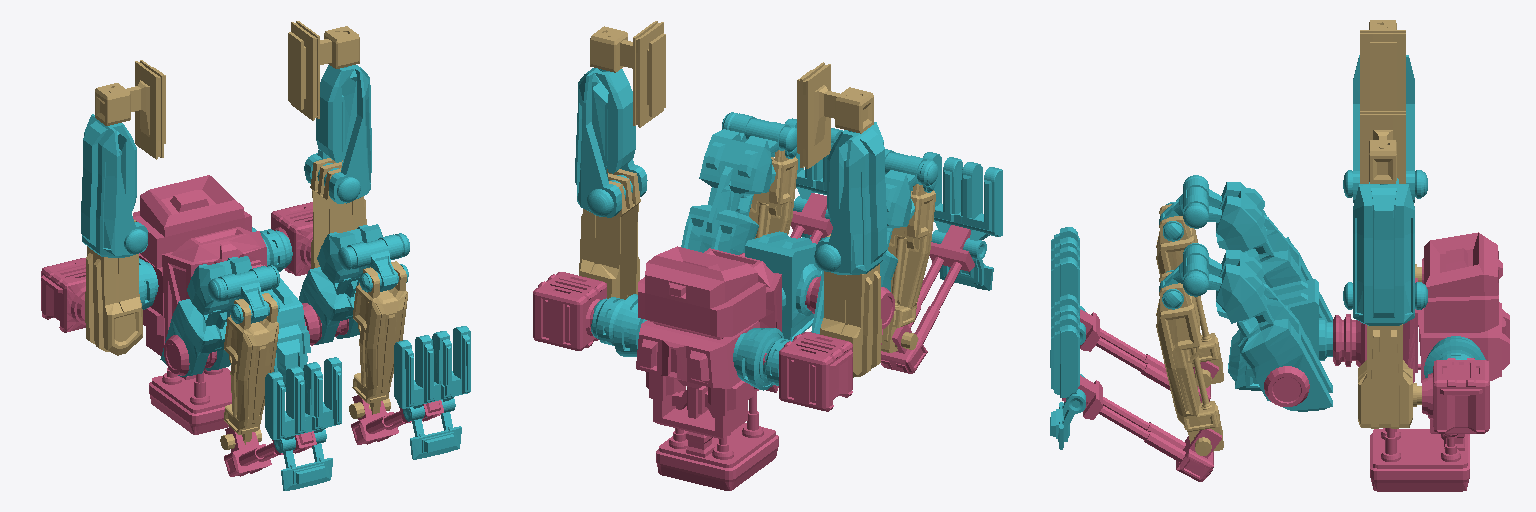
--- Render facts (derived) ---
The picture shows the robot from 3 angles, left to right: view 1: azimuth 30°, elevation 25°; view 2: azimuth 150°, elevation 25°; view 3: azimuth 270°, elevation 25°; orthographic projection.
Model legs_testMove with 23 links and 22 joints (15 revolute, 7 fixed), rooted at base_link, posed every joint at zero.
Visible links, largest first — view 1: link_body, link_arm_r_03, link_leg_r_01, link_foot_l, link_foot_r, link_leg_l_01, link_arm_l_03, link_leg_l_02, link_leg_r_02, link_arm_r_02, link_hand_l, link_hand_r (+10 smaller); view 2: link_body, link_leg_l_01, link_arm_r_03, link_arm_l_03, link_foot_r, link_arm_l_02, link_arm_r_01, link_hand_r, link_arm_r_02, link_hand_l, link_leg_r_02, link_arm_l_01 (+9 smaller); view 3: link_body, link_leg_l_01, link_arm_l_03, link_leg_r_01, link_leg_l_02, link_arm_l_02, link_arm_l_01, link_hand_r, link_foot_l, link_leg_l_03, link_hand_l, link_hip (+6 smaller).
Boxes of the visible links, <box> form: link_body: <box>133,175,266,434</box>; link_arm_r_03: <box>81,114,147,257</box>; link_leg_r_01: <box>160,256,279,376</box>; link_foot_l: <box>394,326,470,459</box>; link_foot_r: <box>265,357,341,490</box>; link_leg_l_01: <box>299,224,409,344</box>; link_arm_l_03: <box>304,65,371,203</box>; link_leg_l_02: <box>349,261,407,418</box>; link_leg_r_02: <box>220,293,278,449</box>; link_arm_r_02: <box>85,220,142,355</box>; link_hand_l: <box>288,21,359,120</box>; link_hand_r: <box>95,60,165,159</box>; link_body: <box>636,246,781,490</box>; link_leg_l_01: <box>681,112,796,254</box>; link_arm_r_03: <box>814,122,886,274</box>; link_arm_l_03: <box>575,68,647,217</box>; link_foot_r: <box>923,152,1002,290</box>; link_arm_l_02: <box>579,169,640,299</box>; link_arm_r_01: <box>763,332,852,411</box>; link_hand_r: <box>797,62,873,168</box>; link_arm_r_02: <box>820,234,881,377</box>; link_hand_l: <box>590,21,665,127</box>; link_leg_r_02: <box>881,184,935,352</box>; link_arm_l_01: <box>533,272,606,350</box>; link_body: <box>1333,232,1509,491</box>; link_leg_l_01: <box>1159,243,1332,411</box>; link_arm_l_03: <box>1343,178,1427,325</box>; link_leg_r_01: <box>1159,175,1332,321</box>; link_leg_l_02: <box>1156,272,1223,455</box>; link_arm_l_02: <box>1358,324,1421,428</box>; link_arm_l_01: <box>1422,358,1489,433</box>; link_hand_r: <box>1360,20,1405,110</box>; link_foot_l: <box>1050,294,1085,449</box>; link_leg_l_03: <box>1062,375,1221,481</box>; link_hand_l: <box>1360,111,1405,183</box>; link_hip: <box>1228,279,1332,390</box>.
Size in the robot's own frame: 1.72 by 2.25 by 2.18 metres.
22 mesh visuals loaded from 22 distinct referenced files (22 OBJ).

URDF robot description (legs_testMove):
<?xml version="1.0"?>
<!-- created with Phobos 0.8 -->
<!-- right joint and link position!!!!!!! finally!!! -->
  <robot name="legs_testMove">
      <link name="base_link">
      <inertial>
        <origin rpy="0 0 0" xyz="0 0 0"/>
        <mass value="1.0"/>
        <inertia ixx="0.01" ixy="0.01" ixz="0.01" iyy="0.01" iyz="0.01" izz="0.01"/>
      </inertial>
      <visual>
        <origin rpy="0 0 0" xyz="0 0 0"/>
        <geometry>
          <box size="0.01 0.01 0.01"/>
        </geometry>
        <material name="color_01"/>
      </visual>
    </link>  
    
    <link name="link_shoulder_l">
      <inertial>
        <origin rpy="0 0 0" xyz="0 0 0"/>
        <mass value="2.0"/>
        <inertia ixx="0" ixy="0" ixz="0" iyy="0" iyz="0" izz="0"/>
      </inertial>   
      <visual name="shoulder_l">
        <origin xyz="0.17547 0 0" rpy="1.5708 0 0"/>
        <!-- <origin xyz="0.08415 0 0" rpy="1.5708 0 0"/> -->
        <geometry>
          <mesh filename="meshes/shoulder_l.obj" scale="1.0 1.0 1.0"/>
        </geometry>
        <material name="color_01"/>
      </visual>
      <collision name="co_shoulder_l">
        <origin xyz="0.17547 0 0" rpy="1.5708 0 0"/>
        <geometry>
          <mesh filename="meshes/shoulder_l.obj" scale="1.0 1.0 1.0"/>
        </geometry>
      </collision>
    </link>
    
    <link name="link_arm_l_01">
      <inertial>
        <origin rpy="0 0 0" xyz="0 0 0"/>
        <mass value="4.0"/>
        <inertia ixx="0" ixy="0" ixz="0" iyy="0" iyz="0" izz="0"/>
      </inertial>  
      <visual name="arm_l_01">
        <origin xyz="0.175 0 0.02" rpy="0 0 0"/>
        <!-- <origin xyz="0.09523 -0.00406 -0.01136" rpy="0 0 0"/> -->
        <geometry>
          <mesh filename="meshes/arm_l_01.obj" scale="1.0 1.0 1.0"/>
        </geometry>
        <material name="color_03"/>
      </visual>
      <collision name="co_arm_l_01">
        <origin xyz="0.175 0 0.02" rpy="1.5708 0 0"/>
        <geometry>
          <mesh filename="meshes/arm_l_01.obj" scale="1.0 1.0 1.0"/>
        </geometry>
      </collision>
    </link>

    <link name="link_arm_l_02">
      <inertial>
        <origin rpy="0 0 0" xyz="0 0 0"/>
        <mass value="5.0"/>
        <inertia ixx="0" ixy="0" ixz="0" iyy="0" iyz="0" izz="0"/>
      </inertial>  
      <visual name="arm_l_02">
        <origin xyz="-0.05 -0.10815 0.21758" rpy="0 0 0"/>
        <!-- <origin xyz="-0.00153 -0.09056 -0.05436" rpy="0 0 0"/> -->
        <geometry>
          <mesh filename="meshes/arm_l_02.obj" scale="1.0 1.0 1.0"/>
        </geometry>
        <material name="color_04"/>
      </visual>
      <collision name="co_arm_l_02">
        <origin xyz="-0.05 -0.10815 0.21758" rpy="1.5708 0 0"/>
        <geometry>
          <mesh filename="meshes/arm_l_02.obj" scale="1.0 1.0 1.0"/>
        </geometry>
      </collision>
    </link>

    <link name="link_arm_l_03">
      <inertial>
        <origin rpy="0 0 0" xyz="0 0 0"/>
        <mass value="5.0"/>
        <inertia ixx="0" ixy="0" ixz="0" iyy="0" iyz="0" izz="0"/>
      </inertial> 
      <visual name="arm_l_03">
        <origin xyz="-0.02 0.01137 0.235" rpy="0 0 0"/>
        <!-- <origin xyz="0.01526 -0.09395 0.00264" rpy="1.5708 0 0"/> -->
        <geometry>
          <mesh filename="meshes/arm_l_03.obj" scale="1.0 1.0 1.0"/>
        </geometry>
        <material name="color_01"/>
      </visual>
      <collision name="co_arm_l_03">
        <origin xyz="-0.02 0.01137 0.235" rpy="1.5708 0 0"/>
        <geometry>
          <mesh filename="meshes/arm_l_03.obj" scale="1.0 1.0 1.0"/>
        </geometry>
      </collision>
    </link>

    <link name="link_hand_l">
      <inertial>
        <origin rpy="0 0 0" xyz="0 0 0"/>
        <mass value="1.0"/>
        <inertia ixx="0" ixy="0" ixz="0" iyy="0" iyz="0" izz="0"/>
      </inertial> 
      <visual name="hand_l">
        <origin xyz="-0.10738 0 0.075" rpy="0 0 0"/>
        <!-- <origin xyz="-0.06739 0.03449 0" rpy="1.5708 0 0"/> -->
        <geometry>
          <mesh filename="meshes/hand_l.obj" scale="1.0 1.0 1.0"/>
        </geometry>
        <material name="color_04"/>
      </visual>
      <collision name="co_hand_l">
        <origin xyz="-0.10738 0 0.075" rpy="1.5708 0 0"/>
        <geometry>
          <mesh filename="meshes/hand_l.obj" scale="1.0 1.0 1.0"/>
        </geometry>
      </collision>
    </link>

    <link name="link_shoulder_r">
      <inertial>
        <origin rpy="0 0 0" xyz="0 0 0"/>
        <mass value="2.0"/>
        <inertia ixx="0" ixy="0" ixz="0" iyy="0" iyz="0" izz="0"/>
      </inertial> 
      <visual name="shoulder_r">
        <origin xyz="-0.22 0 0" rpy="1.5708 0 0"/>
        <!-- <origin xyz="-0.08415 0 0" rpy="1.5708 0 0"/> -->
        <geometry>
          <mesh filename="meshes/shoulder_r.obj" scale="1.0 1.0 1.0"/>
        </geometry>
        <material name="color_01"/>
      </visual>
      <collision name="co_shoulder_r">
        <origin xyz="-0.22 0 0" rpy="1.5708 0 0"/>
        <geometry>
          <mesh filename="meshes/shoulder_r.obj" scale="1.0 1.0 1.0"/>
        </geometry>
      </collision>
    </link>

    <link name="link_arm_r_01">
      <inertial>
        <origin rpy="0 0 0" xyz="0 0 0"/>
        <mass value="4.0"/>
        <inertia ixx="0" ixy="0" ixz="0" iyy="0" iyz="0" izz="0"/>
      </inertial> 
      <visual name="arm_r_01">
        <origin xyz="-0.175 0 0.02" rpy="0 0 0"/>
        <!-- <origin xyz="-0.09523 -0.00406 -0.01136" rpy="1.5708 0 0"/> -->
        <geometry>
          <mesh filename="meshes/arm_r_01.obj" scale="1.0 1.0 1.0"/>
        </geometry>
        <material name="color_03"/>
      </visual>
      <collision name="co_arm_r_01">
        <origin xyz="-0.175 0 0.02" rpy="1.5708 0 0"/>
        <geometry>
          <mesh filename="meshes/arm_r_01.obj" scale="1.0 1.0 1.0"/>
        </geometry>
      </collision>
    </link>

    <link name="link_arm_r_02">
      <inertial>
        <origin rpy="0 0 0" xyz="0 0 0"/>
        <mass value="5.0"/>
        <inertia ixx="0" ixy="0" ixz="0" iyy="0" iyz="0" izz="0"/>
      </inertial> 
      <visual name="arm_r_02">
        <origin xyz="0.05 -0.10815 0.22" rpy="0 0 0"/>
        <!-- <origin xyz="-0.00213 -0.09054 -0.05436" rpy="1.5708 0 0"/> -->
        <geometry>
          <mesh filename="meshes/arm_r_02.obj" scale="1.0 1.0 1.0"/>
        </geometry>
        <material name="color_04"/>
      </visual>
      <collision name="co_arm_r_02">
        <origin xyz="-0.00679 -0.09681 -0.04815" rpy="1.5708 0 0"/>
        <geometry>
          <mesh filename="meshes/arm_r_02.obj" scale="1.0 1.0 1.0"/>
        </geometry>
      </collision>
    </link>

    <link name="link_arm_r_03">
      <inertial>
        <origin rpy="0 0 0" xyz="0 0 0"/>
        <mass value="5.0"/>
        <inertia ixx="0" ixy="0" ixz="0" iyy="0" iyz="0" izz="0"/>
      </inertial> 
      <visual name="arm_r_03">
        <origin xyz="0.02 0.01137 0.235" rpy="0 0 0"/>
        <!-- <origin xyz="-0.01526 -0.09395 0.00264" rpy="0 0 0"/> -->
        <geometry>
          <mesh filename="meshes/arm_r_03.obj" scale="1.0 1.0 1.0"/>
        </geometry>
        <material name="color_01"/>
      </visual>
      <collision name="co_arm_r_03">
        <origin xyz="0.02 0.01137 0.235" rpy="1.5708 0 0"/>
        <geometry>
          <mesh filename="meshes/arm_r_03.obj" scale="1.0 1.0 1.0"/>
        </geometry>
      </collision>
    </link>

    <link name="link_hand_r">
      <inertial>
        <origin rpy="0 0 0" xyz="0 0 0"/>
        <mass value="1.0"/>
        <inertia ixx="0" ixy="0" ixz="0" iyy="0" iyz="0" izz="0"/>
      </inertial> 
      <visual name="hand_r">
        <origin xyz="0.10738 0 0.07" rpy="0 0 0"/>
        <geometry>
          <mesh filename="meshes/hand_r.obj" scale="1.0 1.0 1.0"/>
        </geometry>
        <material name="color_04"/>
      </visual>
      <collision name="co_hand_r">
        <origin xyz="0.10738 0 0.07" rpy="1.5708 0 0"/>
        <geometry>
          <mesh filename="meshes/hand_r.obj" scale="1.0 1.0 1.0"/>
        </geometry>
      </collision>
    </link>

    <!-- ###### -->
    <link name="link_body">
      <inertial>
        <origin rpy="0 0 0" xyz="0 0 0"/>
        <mass value="10.0"/>
        <inertia ixx="0" ixy="0" ixz="0" iyy="0" iyz="0" izz="0"/>
      </inertial>   
      <visual name="body">
        <origin xyz="-0.02 0.11261 -0.3" rpy="0 0 0"/>
        <!-- <origin xyz="0.00114 0.1233 0.15401" rpy="0 0 0"/> -->
        <geometry>
          <mesh filename="meshes/body.obj" scale="1.0 1.0 1.0"/>
        </geometry>
        <material name="color_03"/>
      </visual>
      <collision name="co_body">
        <origin xyz="-0.02 0.11261 -0.3" rpy="0 0 0"/>
        <geometry>
          <mesh filename="meshes/body.obj" scale="1.0 1.0 1.0"/>
        </geometry>
      </collision>
    </link>

    <link name="link_hip">
      <inertial>
        <origin rpy="0 0 0" xyz="0 0 0"/>
        <mass value="5.0"/>
        <inertia ixx="0" ixy="0" ixz="0" iyy="0" iyz="0" izz="0"/>
      </inertial>   
      <visual name="hip">
        <origin xyz="0 0 0" rpy="0 0 0"/>
        <geometry>
          <mesh filename="meshes/hip.obj" scale="1.0 1.0 1.0"/>
        </geometry>
        <material name="color_01"/>
      </visual>
      <collision name="hip.001">
        <origin xyz="0 0 0" rpy="0 0 0"/>
        <geometry>
          <mesh filename="meshes/hip.obj" scale="1.0 1.0 1.0"/>
        </geometry>
      </collision>
    </link>

    <link name="link_hip_l">
      <inertial>
        <origin rpy="0 0 0" xyz="0 0 0"/>
        <mass value="0.5"/>
        <inertia ixx="0" ixy="0" ixz="0" iyy="0" iyz="0" izz="0"/>
      </inertial>   
      <visual name="hip_l">
        <origin xyz="0.24 -0.00043 -0.00096" rpy="0 0 0"/>
        <geometry>
          <mesh filename="meshes/hip_l.obj" scale="1.0 1.0 1.0"/>
        </geometry>
        <material name="color_03"/>
      </visual>
      <collision name="hip_l.001">
        <origin xyz="0.24 -0.00043 -0.00096" rpy="0 0 0"/>
        <geometry>
          <mesh filename="meshes/hip_l.obj" scale="1.0 1.0 1.0"/>
        </geometry>
      </collision>
    </link>

    <link name="link_leg_l_01">
      <inertial>
        <origin rpy="0 0 0" xyz="0 0 0"/>
        <mass value="2.0"/>
        <inertia ixx="0" ixy="0" ixz="0" iyy="0" iyz="0" izz="0"/>
      </inertial>   
      <visual name="leg_l_01">
        <origin xyz="0.17 -0.3849 0.45716" rpy="0 0 0"/>
        <geometry>
          <mesh filename="meshes/leg_l_01.obj" scale="1.0 1.0 1.0"/>
        </geometry>
        <material name="color_01"/>
      </visual>
      <collision name="leg_l_01.001">
        <origin xyz="0.17 -0.3849 0.45716" rpy="0 0 0"/>
        <geometry>
          <mesh filename="meshes/leg_l_01.obj" scale="1.0 1.0 1.0"/>
        </geometry>
      </collision>
    </link>

    <link name="link_leg_l_02">
      <inertial>
        <origin rpy="0 0 0" xyz="0 0 0"/>
        <mass value="2.0"/>
        <inertia ixx="0" ixy="0" ixz="0" iyy="0" iyz="0" izz="0"/>
      </inertial>   
      <visual name="leg_l_02">
        <origin xyz="0.17 0.09 -0.44" rpy="0 0 0"/>
        <geometry>
          <mesh filename="meshes/leg_l_02.obj" scale="1.0 1.0 1.0"/>
        </geometry>
        <material name="color_04"/>
      </visual>
      <collision name="leg_l_02.001">
        <origin xyz="0.17 0.09 -0.44" rpy="0 0 0"/>
        <geometry>
          <mesh filename="meshes/leg_l_02.obj" scale="1.0 1.0 1.0"/>
        </geometry>
      </collision>
    </link>

    <link name="link_leg_l_03">
      <inertial>
        <origin rpy="0 0 0" xyz="0 0 0"/>
        <mass value="2.0"/>
        <inertia ixx="0" ixy="0" ixz="0" iyy="0" iyz="0" izz="0"/>
      </inertial> 
      <visual name="leg_l_03">
        <origin xyz="0.17 -0.18418 0.03651" rpy="0 0 0"/>
        <geometry>
          <mesh filename="meshes/leg_l_03.obj" scale="1.0 1.0 1.0"/>
        </geometry>
        <material name="color_03"/>
      </visual>
      <collision name="leg_l_03.001">
        <origin xyz="0.17 -0.18418 0.03651" rpy="0 0 0"/>
        <geometry>
          <mesh filename="meshes/leg_l_03.obj" scale="1.0 1.0 1.0"/>
        </geometry>
      </collision>
    </link>

    <link name="link_foot_l">
      <inertial>
        <origin rpy="0 0 0" xyz="0 0 0"/>
        <mass value="4.0"/>
        <inertia ixx="0" ixy="0" ixz="0" iyy="0" iyz="0" izz="0"/>
      </inertial> 
      <visual name="foot_l">
        <origin xyz="0.17 -0.0175 0.132" rpy="0 0 0"/>
        <!-- <origin xyz="0.17 -0.00873 0.0849" rpy="0 0 0"/> -->
        <geometry>
          <mesh filename="meshes/foot_l.obj" scale="1.0 1.0 1.0"/>
        </geometry>
        <material name="color_01"/>
      </visual>
      <collision name="foot_l.001">
        <origin xyz="0.17 -0.0175 0.132" rpy="0 0 0"/>
        <geometry>
          <mesh filename="meshes/foot_l.obj" scale="1.0 1.0 1.0"/>
        </geometry>
      </collision>
    </link>

    <link name="link_hip_r">
      <inertial>
        <origin rpy="0 0 0" xyz="0 0 0"/>
        <mass value="0.5"/>
        <inertia ixx="0" ixy="0" ixz="0" iyy="0" iyz="0" izz="0"/>
      </inertial>       
      <visual name="hip_r">
        <origin xyz="-0.24 -0.00043 -0.00096" rpy="0 0 0"/>
        <geometry>
          <mesh filename="meshes/hip_r.obj" scale="1.0 1.0 1.0"/>
        </geometry>
        <material name="color_03"/>
      </visual>
      <collision name="hip_r.001">
        <origin xyz="-0.24 -0.00043 -0.00096" rpy="0 0 0"/>
        <geometry>
          <mesh filename="meshes/hip_r.obj" scale="1.0 1.0 1.0"/>
        </geometry>
      </collision>
    </link>

    <link name="link_leg_r_01">
      <inertial>
        <origin rpy="0 0 0" xyz="0 0 0"/>
        <mass value="2.0"/>
        <inertia ixx="0" ixy="0" ixz="0" iyy="0" iyz="0" izz="0"/>
      </inertial>   
      <visual name="leg_r_01">
        <origin xyz="-0.17 -0.384 0.45716" rpy="0 0 0"/>
        <geometry>
          <mesh filename="meshes/leg_r_01.obj" scale="1.0 1.0 1.0"/>
        </geometry>
        <material name="color_01"/>
      </visual>
      <collision name="leg_r_01.001">
        <origin xyz="-0.17 -0.384 0.45716" rpy="0 0 0"/>
        <geometry>
          <mesh filename="meshes/leg_r_01.obj" scale="1.0 1.0 1.0"/>
        </geometry>
      </collision>
    </link>

    <link name="link_leg_r_02">
      <inertial>
        <origin rpy="0 0 0" xyz="0 0 0"/>
        <mass value="2.0"/>
        <inertia ixx="0" ixy="0" ixz="0" iyy="0" iyz="0" izz="0"/>
      </inertial>   
      <visual name="leg_r_02">
        <origin xyz="-0.17 0.09 -0.44" rpy="0 0 0"/>
        <geometry>
          <mesh filename="meshes/leg_r_02.obj" scale="1.0 1.0 1.0"/>
        </geometry>
        <material name="color_04"/>
      </visual>
      <collision name="leg_r_02.001">
        <origin xyz="-0.17 0.09 -0.44" rpy="0 0 0"/>
        <geometry>
          <mesh filename="meshes/leg_r_02.obj" scale="1.0 1.0 1.0"/>
        </geometry>
      </collision>
    </link>

    <link name="link_leg_r_03">
      <inertial>
        <origin rpy="0 0 0" xyz="0 0 0"/>
        <mass value="3.0"/>
        <inertia ixx="0" ixy="0" ixz="0" iyy="0" iyz="0" izz="0"/>
      </inertial> 
      <visual name="leg_r_03">
        <origin xyz="-0.17 -0.19965 0.03957" rpy="0 0 0"/>
        <geometry>
          <mesh filename="meshes/leg_r_03.obj" scale="1.0 1.0 1.0"/>
        </geometry>
        <material name="color_03"/>
      </visual>
      <collision name="leg_r_03.001">
        <origin xyz="-0.17 -0.19965 0.03957" rpy="0 0 0"/>
        <geometry>
          <mesh filename="meshes/leg_r_03.obj" scale="1.0 1.0 1.0"/>
        </geometry>
      </collision>
    </link>

    <link name="link_foot_r">
      <inertial>
        <origin rpy="0 0 0" xyz="0 0 0"/>
        <mass value="4.0"/>
        <inertia ixx="0" ixy="0" ixz="0" iyy="0" iyz="0" izz="0"/>
      </inertial>    
      <visual name="foot_r">
        <origin xyz="-0.17 -0.0175 0.132" rpy="0 0 0"/>
        <!-- <origin xyz="-0.17 -0.00873 0.0849" rpy="0 0 0"/> -->
        <geometry>
          <mesh filename="meshes/foot_r.obj" scale="1.0 1.0 1.0"/>
        </geometry>
        <material name="color_01"/>
      </visual>
      <collision name="foot_r.001">
        <origin xyz="-0.17 -0.0175 0.132" rpy="0 0 0"/>
        <geometry>
          <mesh filename="meshes/foot_r.obj" scale="1.0 1.0 1.0"/>
        </geometry>
      </collision>
    </link>


<!-- joints -->
    <joint name="joint_baseLink_to_hip" type="fixed">
      <parent link="base_link"/>
      <child link="link_hip"/>
      <origin rpy="0 0 0" xyz="0 0 0."/>
      <axis xyz="0 0 1"/>
      <limit effort="300" velocity="10"/>
      <dynamics damping="0.5"/>
    </joint>  

    <joint name="joint_shoulder_l" type="revolute">
      <origin xyz="0.21646 0.3 0.00501" rpy="0 0 0"/>
      <!-- <origin xyz="0.09637 -0.00223 0.23495" rpy="0 0 0"/> -->
      <parent link="link_body"/>
      <child link="link_shoulder_l"/>
      <limit effort="300.0" velocity="20.0"/>
      <axis xyz="1 0 0"/>
      <dynamics damping="0.5"/> 
    </joint>

    <joint name="joint_arm_l_01" type="fixed">
      <origin xyz="0.30361 0 0" rpy="0 0 0"/>
      <parent link="link_shoulder_l"/>
      <child link="link_arm_l_01"/>
      <limit effort="300.0" velocity="20.0"/>
      <axis xyz="1 0 0"/>
      <dynamics damping="0.5"/> 
    </joint>

    <joint name="joint_arm_l_02" type="revolute">
      <origin xyz="0.21749 -0.18937 0" rpy="0 0 0"/>
      <!-- <origin xyz="0.09682 0 -0.1" rpy="0 0 0"/> -->
      <parent link="link_arm_l_01"/>
      <child link="link_arm_l_02"/>
      <limit effort="300.0" velocity="20.0"/>
      <axis xyz="0 1 0"/>
      <dynamics damping="0.5"/> 
    </joint>

    <joint name="joint_arm_l_03" type="revolute">
      <origin xyz="-0.0362  -0.17209 0.5047" rpy="0 0 0"/>
      <!-- <origin xyz="-0.01611 -0.22468 -0.07661" rpy="0 0 0"/> -->
      <parent link="link_arm_l_02"/>
      <child link="link_arm_l_03"/>
      <limit effort="300.0" velocity="20.0"/>
      <axis xyz="0 1 0"/>
      <dynamics damping="0.5"/> 
    </joint>

    <joint name="joint_hand_l" type="revolute">
      <origin xyz="0.06052 0.00296 0.72259" rpy="0 0 0"/>
      <!-- <origin xyz="0.02694 -0.32169 0.00132" rpy="0 0 0"/> -->
      <parent link="link_arm_l_03"/>
      <child link="link_hand_l"/>
      <limit effort="300.0" velocity="20.0"/>
      <axis xyz="0 0 1"/>
      <dynamics damping="0.5"/> 
    </joint>

    <joint name="joint_shoulder_r" type="revolute">
      <origin xyz="-0.21646 0.3 0.00501" rpy="0 0 0"/>
      <!-- <origin xyz="-0.09637 -0.00223 0.23495" rpy="0 0 0"/> -->
      <parent link="link_body"/>
      <child link="link_shoulder_r"/>
      <limit effort="300.0" velocity="20.0"/>
      <axis xyz="1 0 0"/>
      <dynamics damping="0.5"/> 
    </joint>

    <joint name="joint_arm_r_01" type="fixed">
      <origin xyz="-0.30361 0 0" rpy="0 0 0"/>
      <!-- <origin xyz="-0.13516 0 0" rpy="0 0 0"/> -->
      <parent link="link_shoulder_r"/>
      <child link="link_arm_r_01"/>
      <limit effort="300.0" velocity="20.0"/>
      <axis xyz="1 0 0"/>
      <dynamics damping="0.5"/> 
    </joint>

    <joint name="joint_arm_r_02" type="revolute">
      <origin xyz="-0.21749 -0.18937 0" rpy="0 0 0"/>
      <!-- <origin xyz="-0.09316 -1e-05 -0.0843" rpy="0 0 0"/> -->
      <parent link="link_arm_r_01"/>
      <child link="link_arm_r_02"/>
      <limit effort="300.0" velocity="20.0"/>
      <axis xyz="0 1 0"/>
      <dynamics damping="0.5"/> 
      <axis xyz="0 1 0"/>
      <dynamics damping="0.5"/> 
    </joint>

    <joint name="joint_arm_r_03" type="revolute">
      <origin xyz="0.0362  -0.17209 0.5047" rpy="0 0 0"/>
      <!-- <origin xyz="0.01245 -0.22467 -0.07661" rpy="0 0 0"/> -->
      <parent link="link_arm_r_02"/>
      <child link="link_arm_r_03"/>
      <limit effort="300.0" velocity="20.0"/>
      <axis xyz="0 1 0"/>
      <dynamics damping="0.5"/> 
    </joint>

    <joint name="joint_hand_r" type="revolute">
      <origin xyz="-0.06052 0.00296 0.72259" rpy="0 0 0"/>
      <parent link="link_arm_r_03"/>
      <child link="link_hand_r"/>
      <limit effort="300.0" velocity="20.0"/>
      <axis xyz="0 0 1"/>
      <dynamics damping="0.5"/> 
    </joint>

<!-- ### -->
    <joint name="joint_body" type="revolute">
      <origin xyz="0.03 0.54 0.03" rpy="0 0 0"/>
      <!-- <origin xyz="0 -0.00597 0.12515" rpy="0 0 0"/> -->
      <parent link="link_hip"/>
      <child link="link_body"/>
      <limit effort="300.0" velocity="20.0"/>
      <axis xyz="0 1 0"/>
      <dynamics damping="0.5"/>      
    </joint>

    <joint name="joint_hip_l" type="fixed">
      <origin xyz="0.03407 0.01131 0.00671" rpy="0 0 0"/>
      <parent link="link_hip"/>
      <child link="link_hip_l"/> 
      <limit effort="200.0" velocity="20.0"/>
      <axis xyz="1 0 0"/>
      <dynamics damping="0.5"/>
    </joint>

    <joint name="joint_leg_l_01" type="revolute">
      <origin xyz="0.19054 0 0" rpy="0 0 0"/>
      <parent link="link_hip_l"/>
      <child link="link_leg_l_01"/>
      <limit effort="200.0" velocity="20.0"/>
      <axis xyz="1 0 0"/>
      <dynamics damping="0.5"/>
    </joint>

    <joint name="joint_leg_l_02" type="revolute">
      <origin xyz="-0.00243 -0.55732 0.45859" rpy="0 0 0"/>
      <parent link="link_leg_l_01"/>
      <child link="link_leg_l_02"/>
      <limit effort="200.0" velocity="20.0"/>
      <axis xyz="1 0 0"/>
      <dynamics damping="0.5"/>
    </joint>

    <joint name="joint_leg_l_03" type="fixed">
      <origin xyz="0 0.127 -0.82" rpy="0 0 0"/>
      <parent link="link_leg_l_02"/>
      <child link="link_leg_l_03"/>
      <limit effort="200.0" velocity="20.0"/>
      <axis xyz="1 0 0"/>
      <dynamics damping="0.5"/>
    </joint>

    <joint name="joint_foot_l" type="revolute">
      <origin xyz="0 -0.6179 0.24035" rpy="0 0 0"/>
      <!-- <origin xyz="0 -0.107 -0.27508" rpy="0 0 0"/> -->
      <!-- <origin xyz="0 -0.59 0.279" rpy="0 0 0"/> -->
      <parent link="link_leg_l_03"/>
      <child link="link_foot_l"/>
      <limit effort="200.0" velocity="20.0"/>
      <axis xyz="1 0 0"/>
      <dynamics damping="0.5"/>      
    </joint>

    <joint name="joint_hip_r" type="fixed">
      <origin xyz="-0.03407 0.01131 0.00671" rpy="0 0 0"/>
      <parent link="link_hip"/>
      <child link="link_hip_r"/>
      <limit effort="200.0" velocity="20.0"/>
      <axis xyz="1 0 0"/>
      <dynamics damping="0.5"/>
    </joint>

    <joint name="joint_leg_r_01" type="revolute">
      <origin xyz="-0.19054 0 0" rpy="0 0 0"/>
      <parent link="link_hip_r"/>
      <child link="link_leg_r_01"/>
      <limit effort="200.0" velocity="20.0"/>
      <axis xyz="1 0 0"/>
      <dynamics damping="0.5"/>
    </joint>

    <joint name="joint_leg_r_02" type="revolute">
      <origin xyz="0.00243 -0.55732 0.45859" rpy="0 0 0"/>
      <parent link="link_leg_r_01"/>
      <child link="link_leg_r_02"/>
      <limit effort="200.0" velocity="20.0"/>
      <axis xyz="1 0 0"/>
      <dynamics damping="0.5"/>      
    </joint>

    <joint name="joint_leg_r_03" type="fixed">
      <origin xyz="0 0.127 -0.82" rpy="0 0 0"/>
      <parent link="link_leg_r_02"/>
      <child link="link_leg_r_03"/>
      <limit effort="200.0" velocity="20.0"/>
      <axis xyz="1 0 0"/>
      <dynamics damping="0.5"/>
    </joint>

    <joint name="joint_foot_r" type="revolute">
      <origin xyz="0 -0.6179 0.24035" rpy="0 0 0"/>
      <parent link="link_leg_r_03"/>
      <child link="link_foot_r"/>
      <limit effort="200.0" velocity="20.0"/>
      <axis xyz="1 0 0"/>
      <dynamics damping="0.5"/>
    </joint>

<!-- materials -->
    <material name="color_01">
      <color rgba="0.29476 0.75464 0.8 1.0"/>
    </material>

    <material name="color_02">
      <color rgba="0.45874 0.8 0.44927 1.0"/>
    </material>

    <material name="color_03">
      <color rgba="0.8 0.40416 0.54358 1.0"/>
    </material>

    <material name="color_04">
      <color rgba="0.8 0.69806 0.48693 1.0"/>
    </material>

  </robot>
